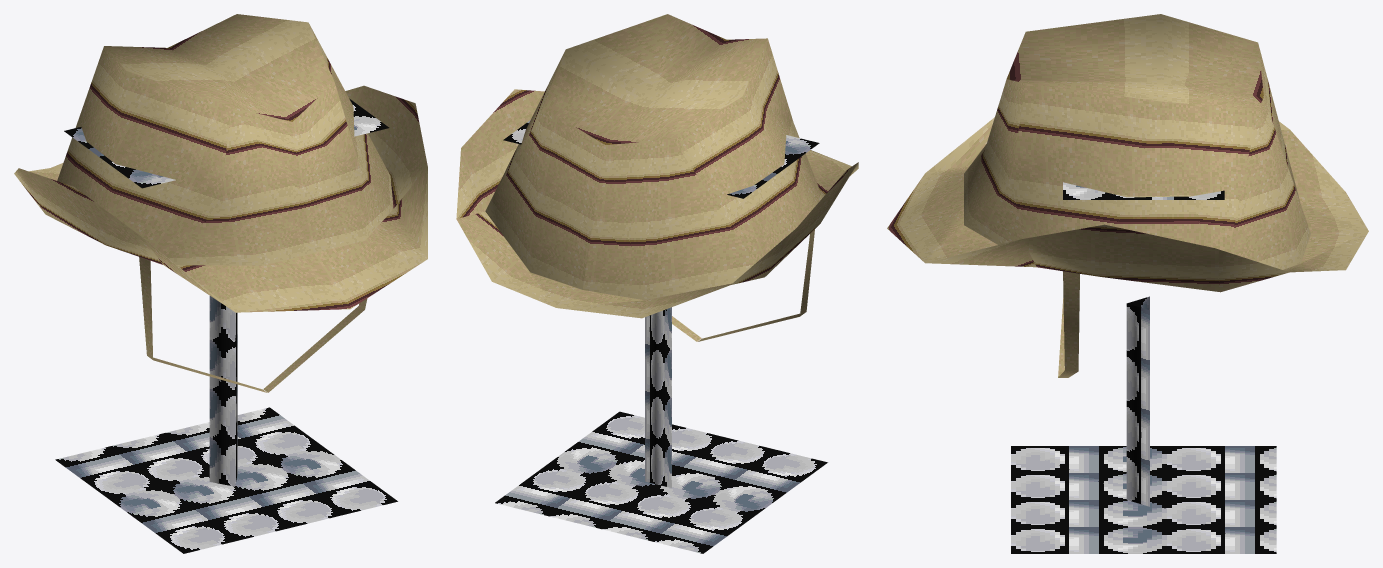
The model's file is 2879head014_c.gltf.
3 views of the same model, side by side, from view 1: azimuth 30°, elevation 25°; view 2: azimuth 150°, elevation 25°; view 3: azimuth 270°, elevation 25° (orthographic). The views are drawn at different scales.
Visible parts, largest first — view 1: 2879head014_c; view 2: 2879head014_c; view 3: 2879head014_c.
Boxes of the visible parts, x1,y1,x2,y2 form: 2879head014_c: (14,14,427,553); 2879head014_c: (456,14,858,553); 2879head014_c: (887,14,1368,553).
Bounding box in the file's own units: 0.7434 × 0.8933 × 0.8711.
Materials: 2 (2 with a texture image).
